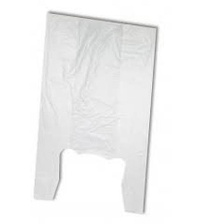plastic_bag: (28, 7, 164, 218)
